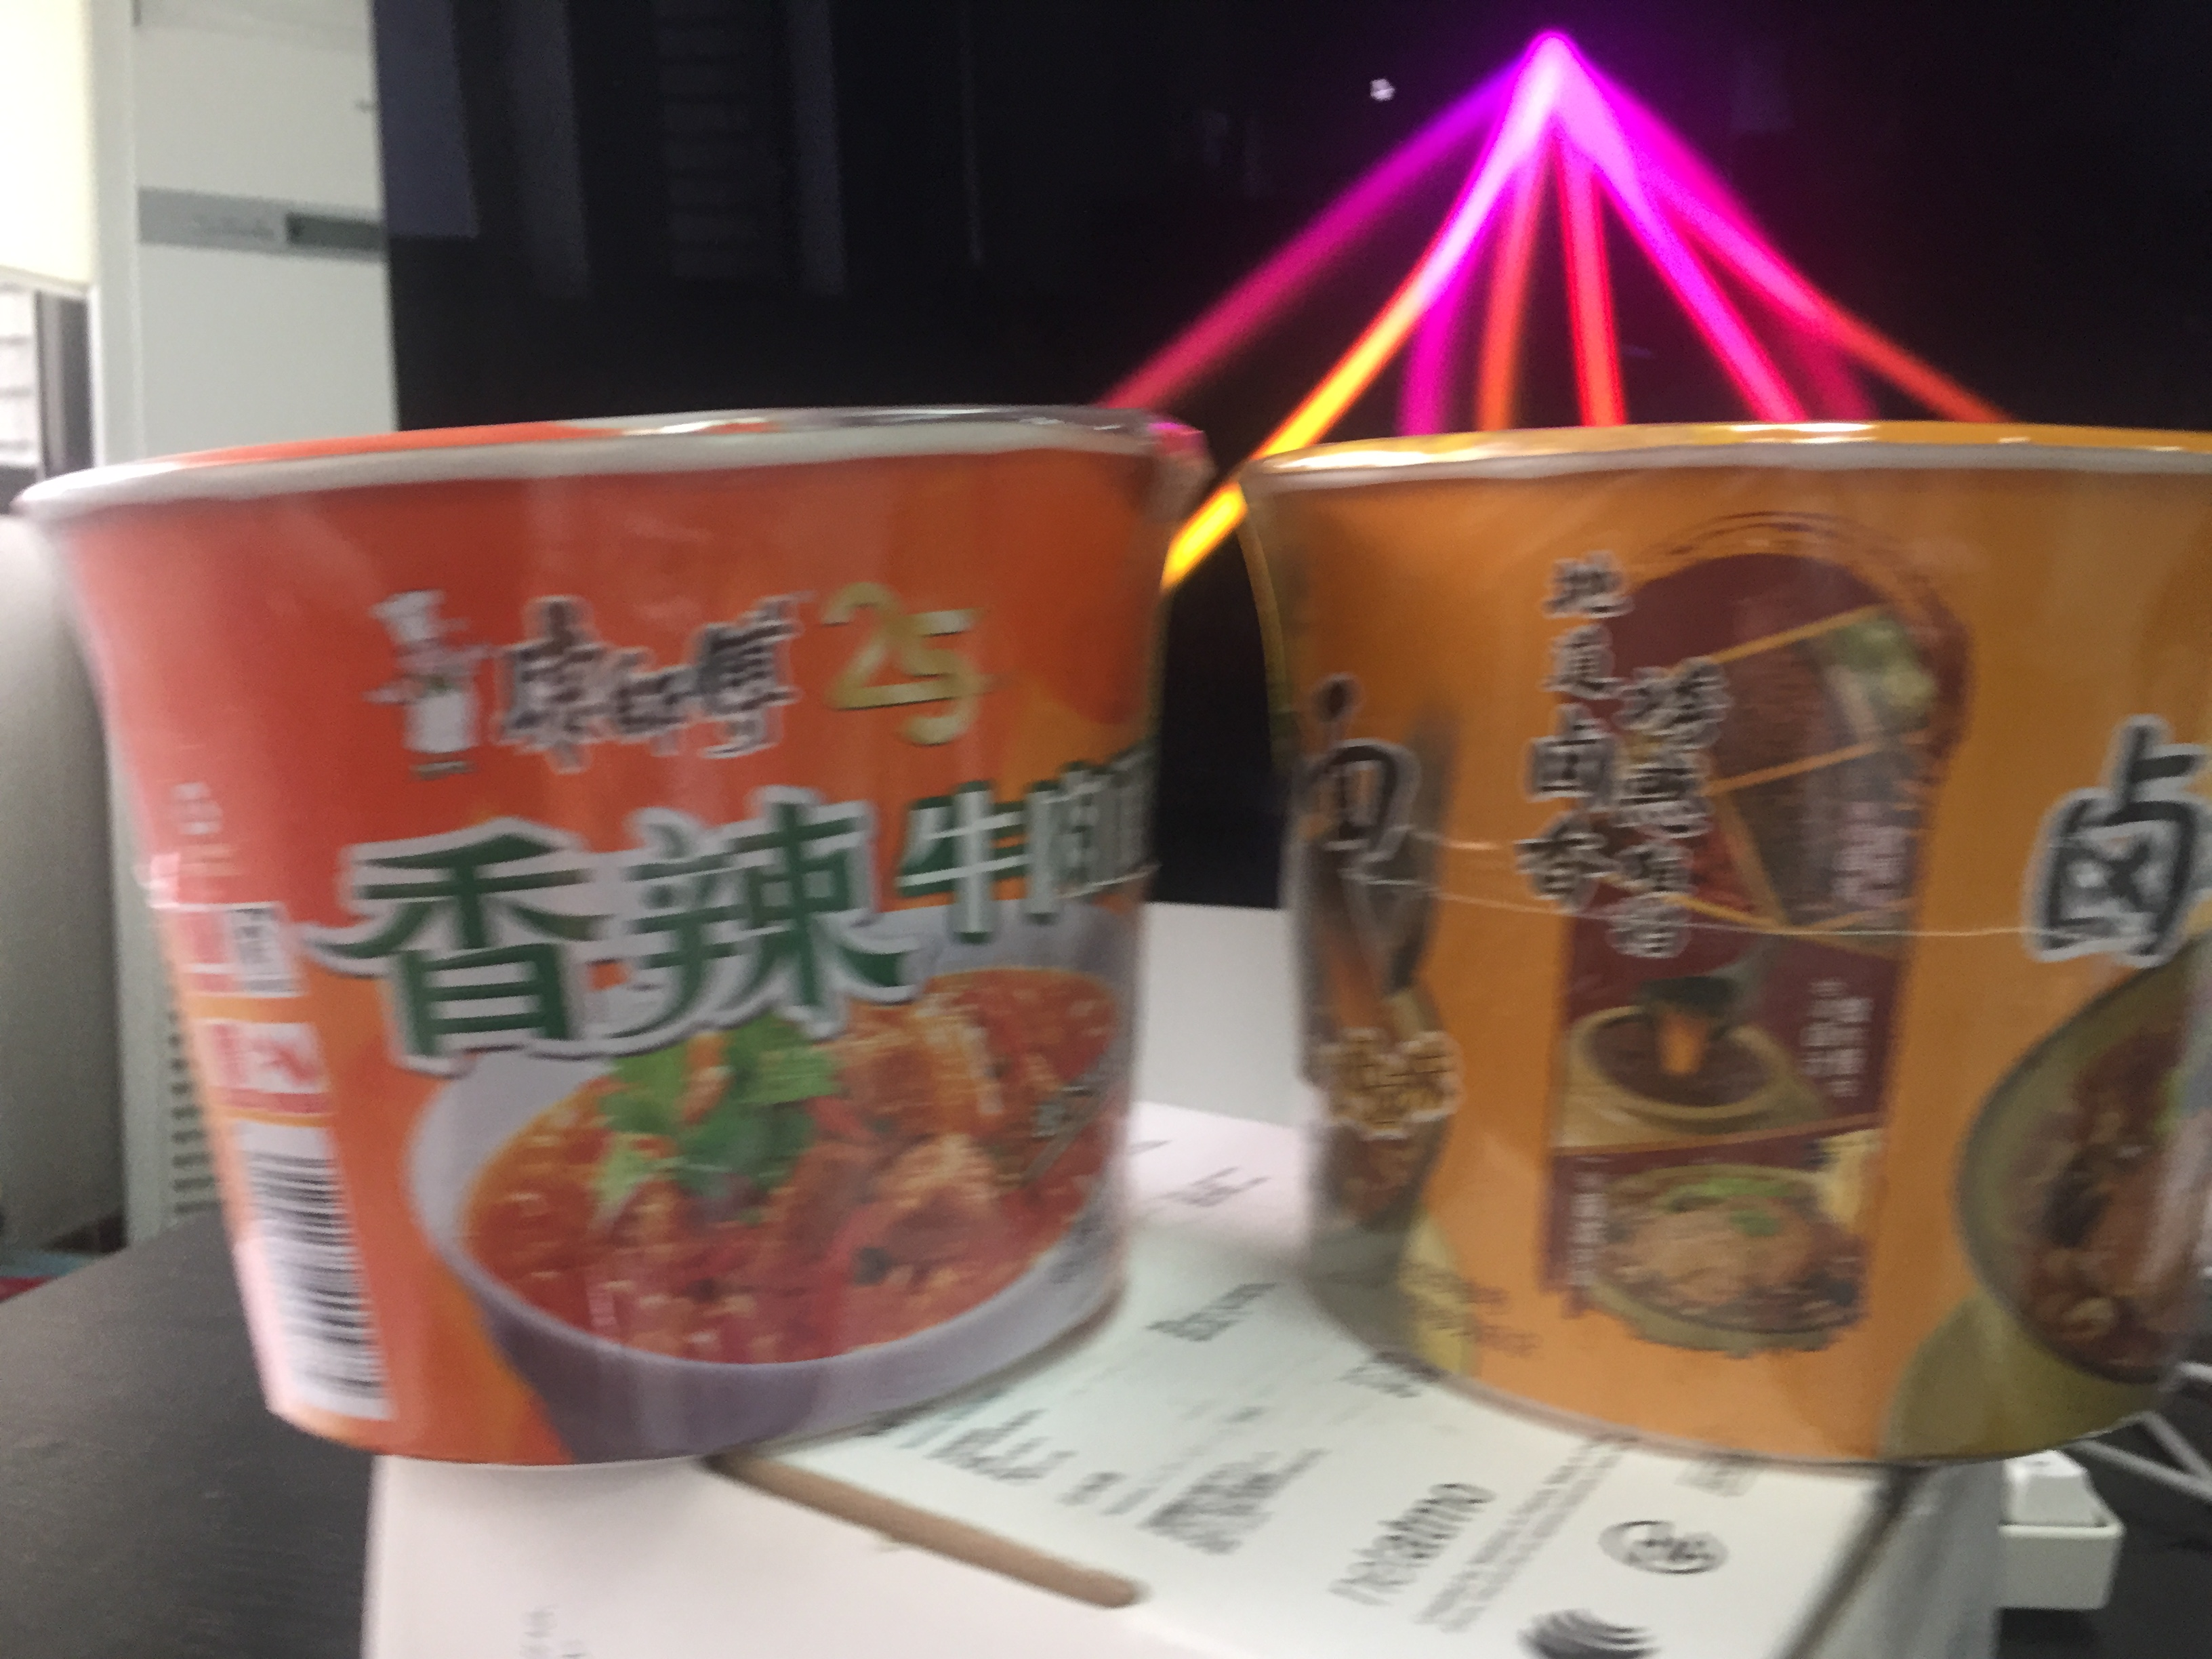luxiang: (1231, 422, 2212, 1476)
xiangla: (9, 408, 1216, 1474)
